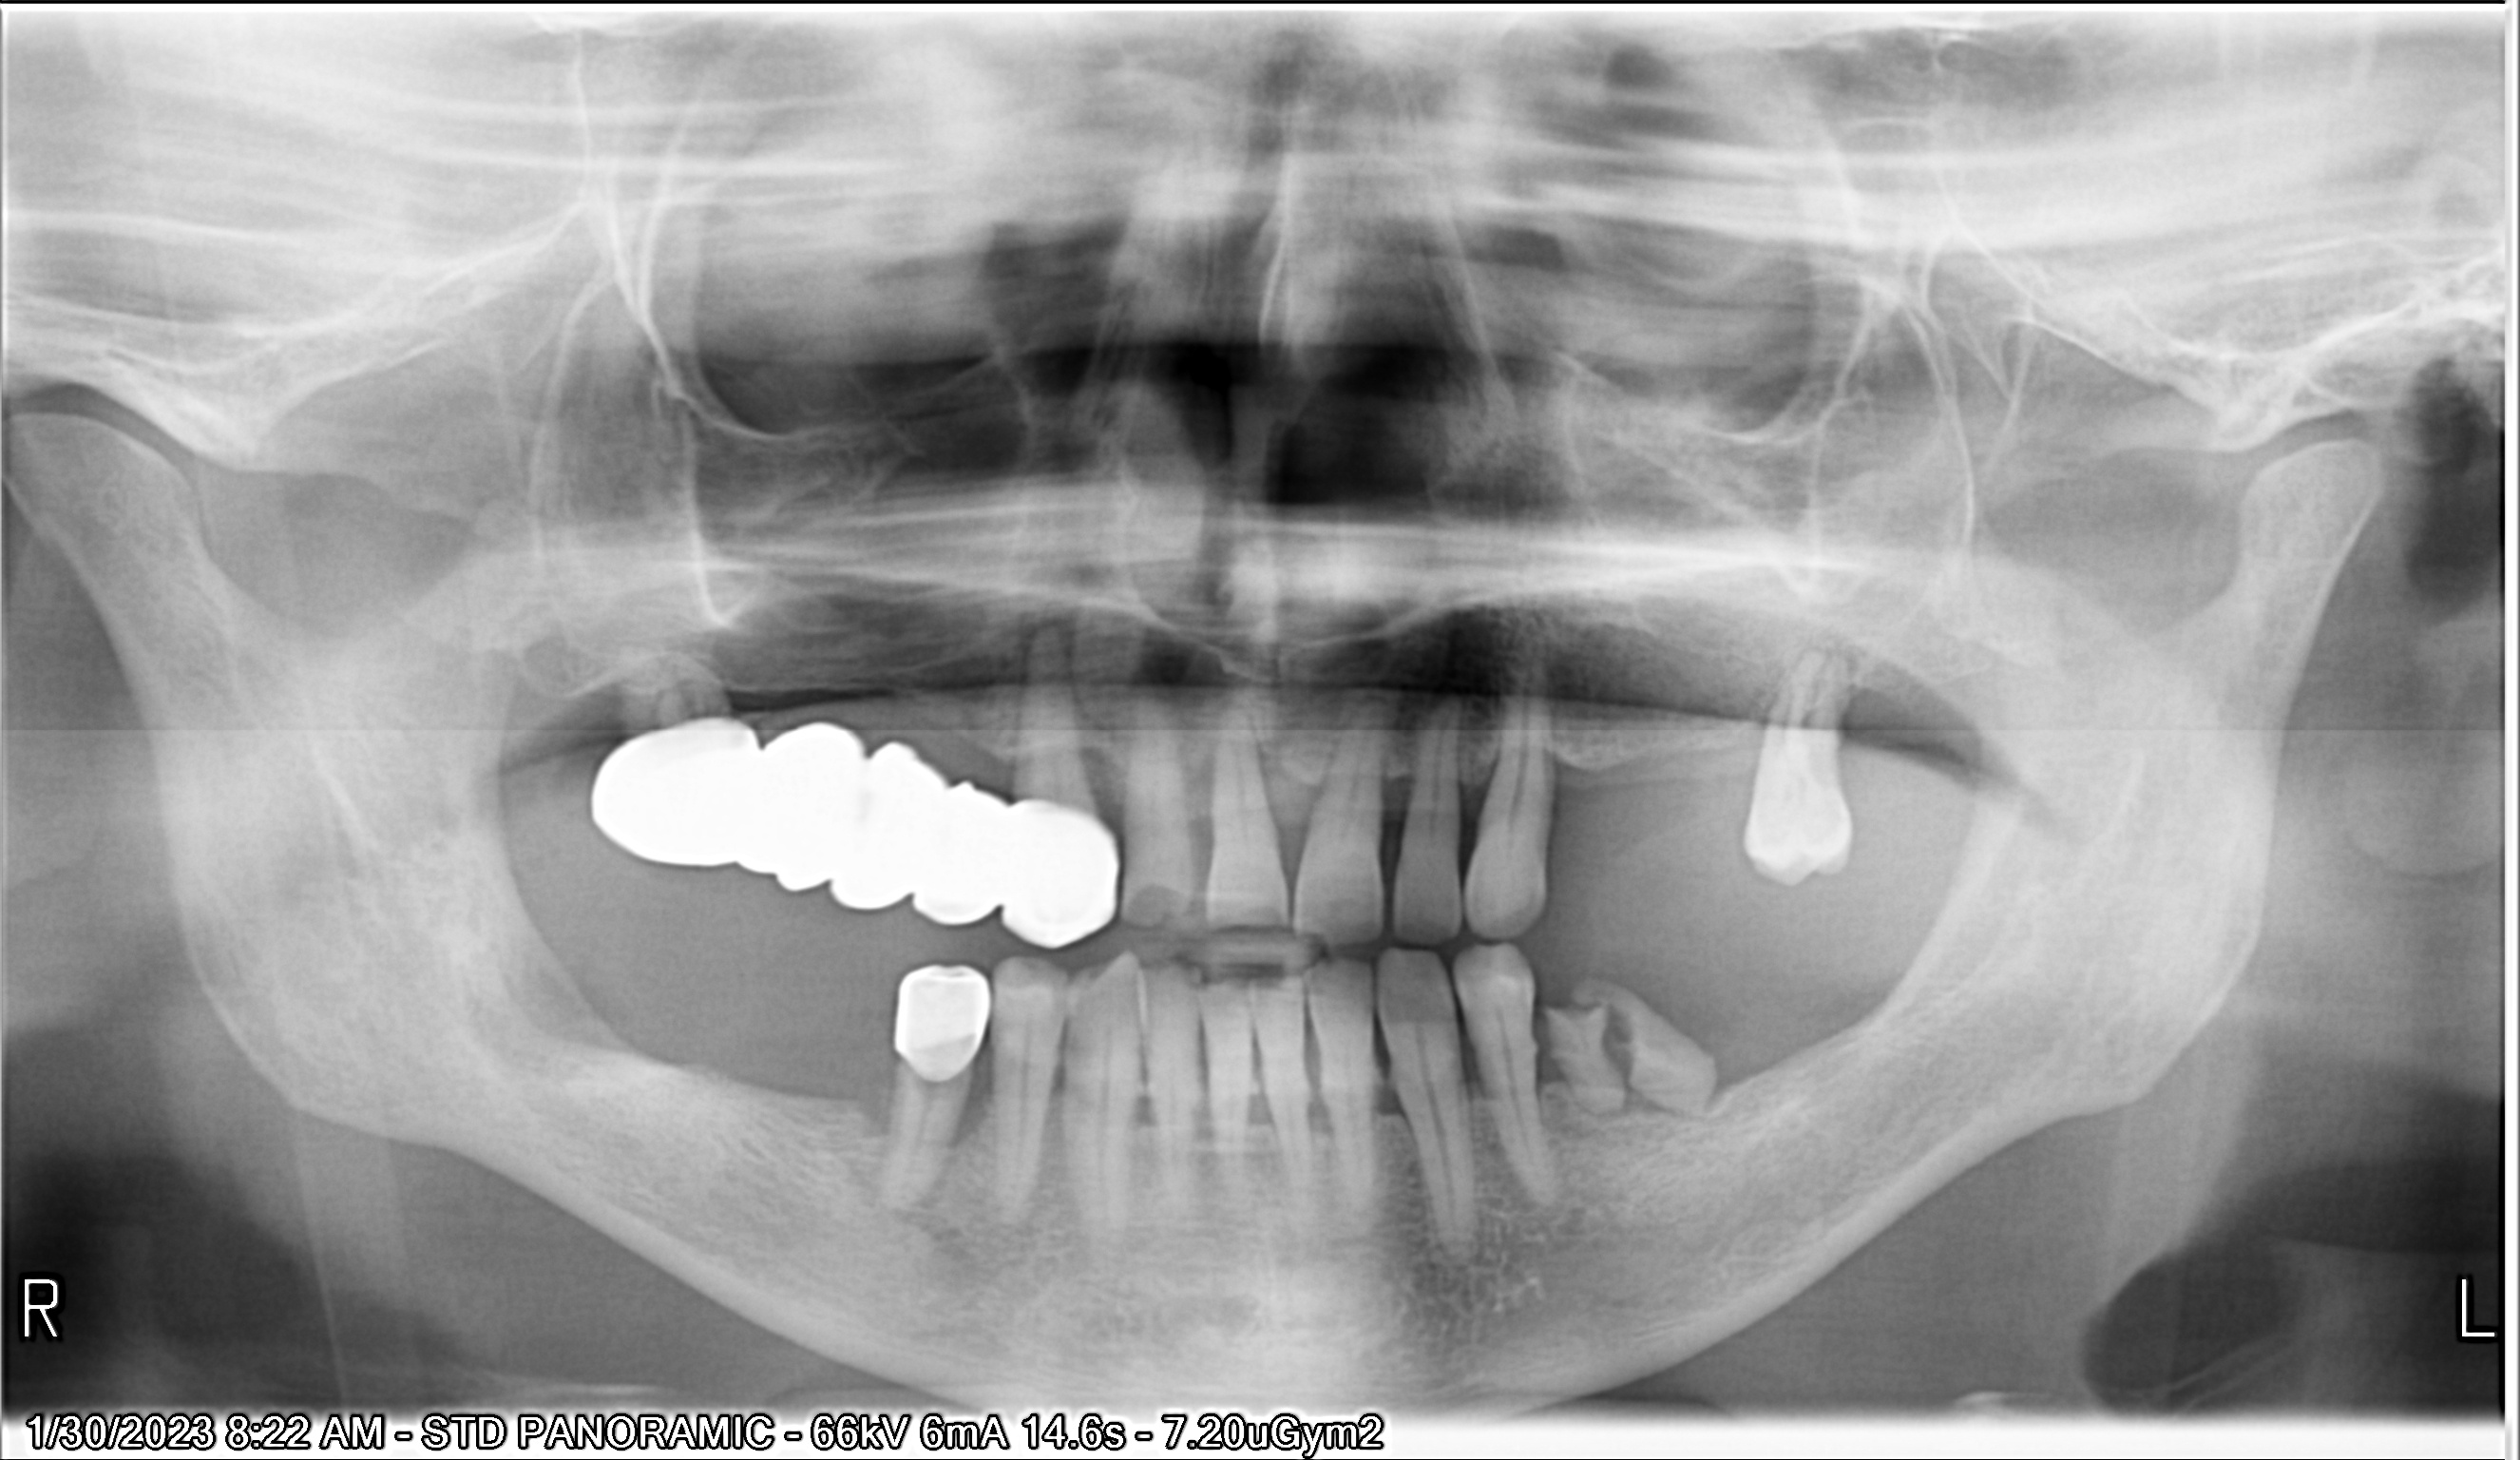BON: (1230, 723, 1330, 845), (1447, 727, 1525, 848), (1365, 1041, 1428, 1173), (1150, 733, 1233, 831), (1063, 702, 1138, 808), (1525, 737, 1601, 836), (1292, 1017, 1342, 1165), (1447, 1019, 1513, 1130), (938, 1069, 1000, 1177), (1026, 1069, 1082, 1189), (834, 1074, 910, 1161), (1362, 742, 1428, 841), (1184, 1050, 1231, 1170), (1237, 1038, 1271, 1168), (1124, 1071, 1164, 1163)
PRR: (578, 704, 1131, 965), (872, 942, 1007, 1095)
ROT: (1572, 965, 1723, 1121), (1540, 985, 1626, 1158)
